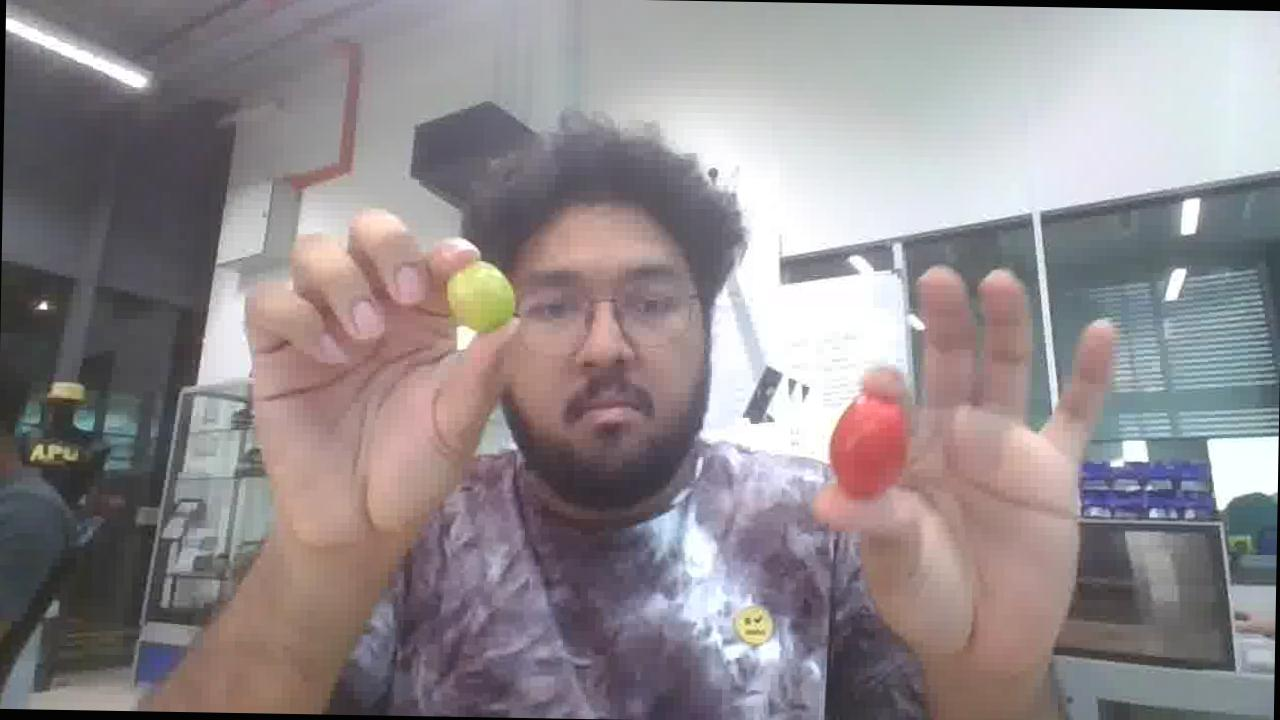green_cherry_tomato: (447, 261, 515, 333)
red_cherry_tomato: (830, 394, 908, 498)
